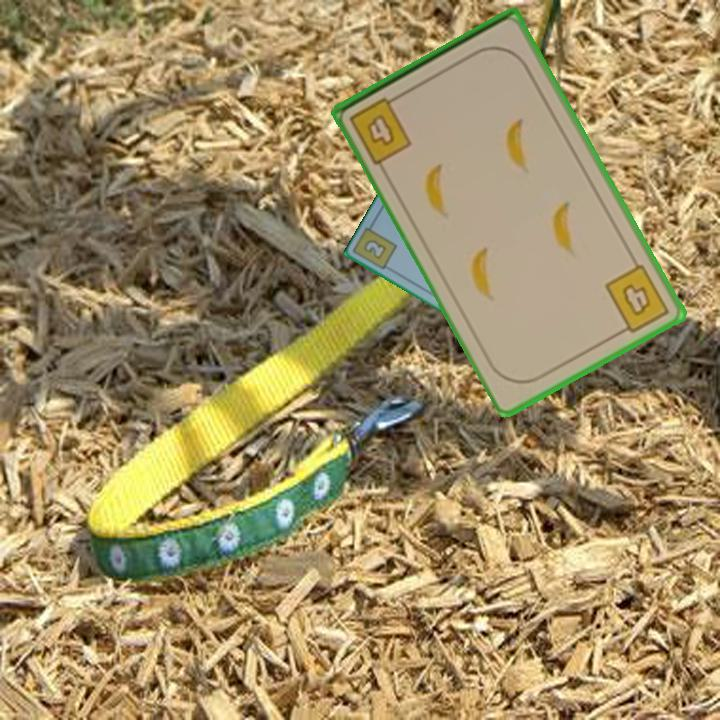2b: (360, 236, 390, 262)
4b: (601, 260, 673, 339), (346, 90, 415, 168)
